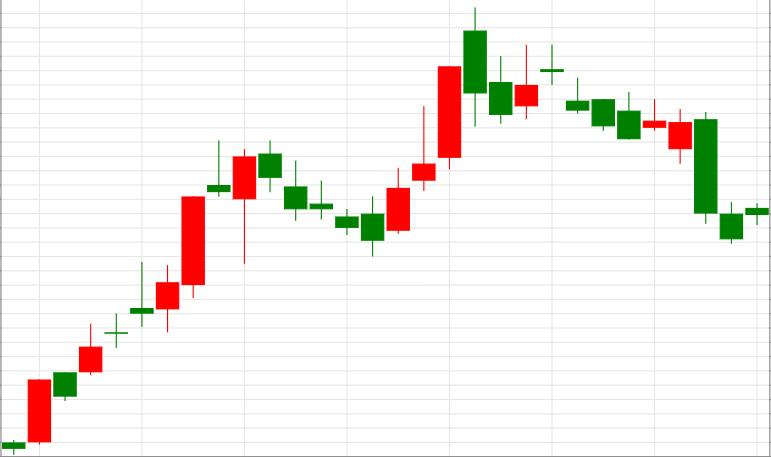hanging_man_fall: (28, 141, 256, 446)
